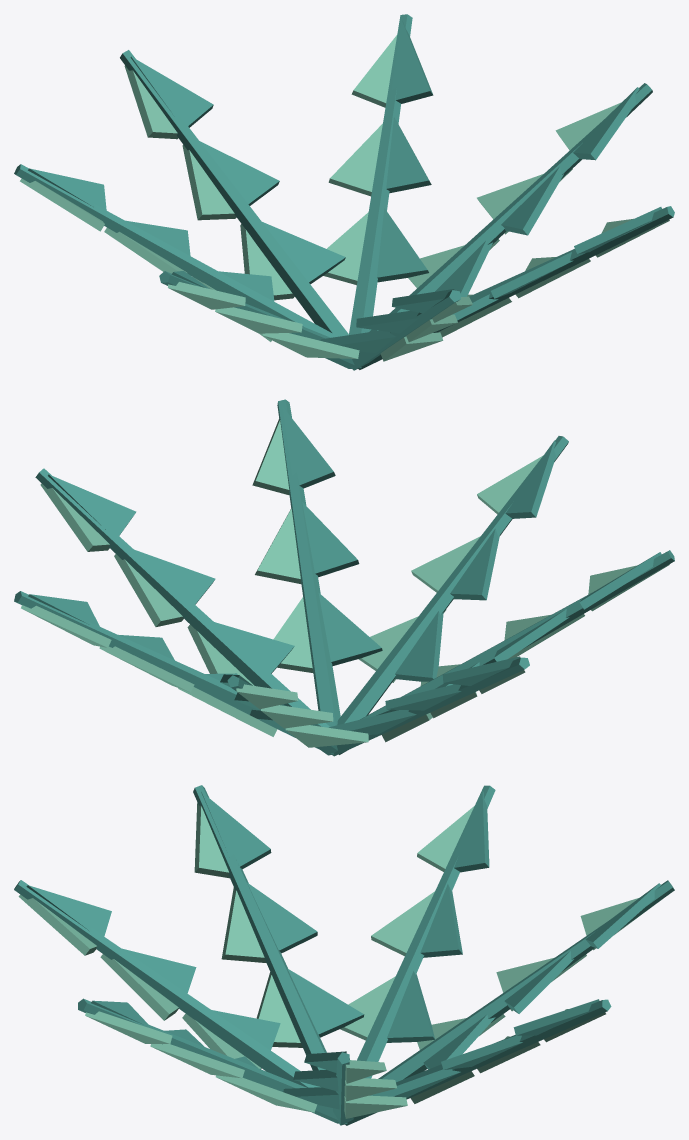
The model's file is SM_RUI_NAT_003_Fern.glb.
3 views of the same model, one above another, from view 1: azimuth 30°, elevation 25°; view 2: azimuth 150°, elevation 25°; view 3: azimuth 270°, elevation 25° (orthographic).
Parts seen in each view (by area): view 1: SM_RUI_NAT_003_Fern; view 2: SM_RUI_NAT_003_Fern; view 3: SM_RUI_NAT_003_Fern.
Part boxes in pixels (x1,y1,x2,y2): SM_RUI_NAT_003_Fern: (14, 14, 674, 370); SM_RUI_NAT_003_Fern: (14, 399, 674, 756); SM_RUI_NAT_003_Fern: (14, 785, 674, 1125).
Size of the model in its own units: 0.8849 by 0.3199 by 0.9065.
